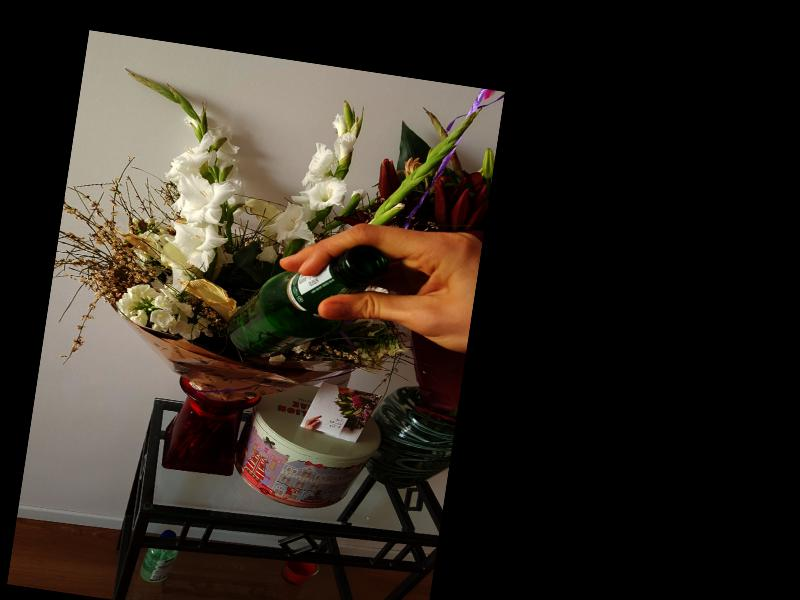Beer: (225, 227, 387, 372)
